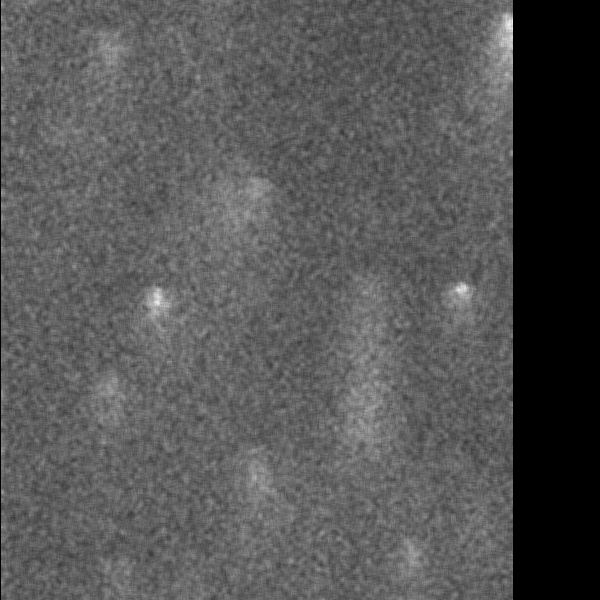spark: (336, 269, 377, 522), (176, 164, 281, 225), (136, 283, 172, 353), (91, 363, 126, 419), (447, 279, 477, 334), (244, 446, 265, 522), (401, 537, 428, 593), (97, 29, 114, 108)
